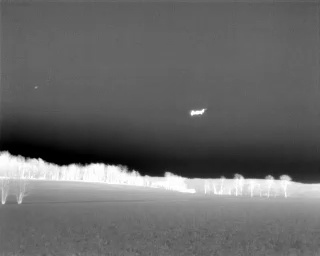DRONE: (186, 103, 210, 122)
